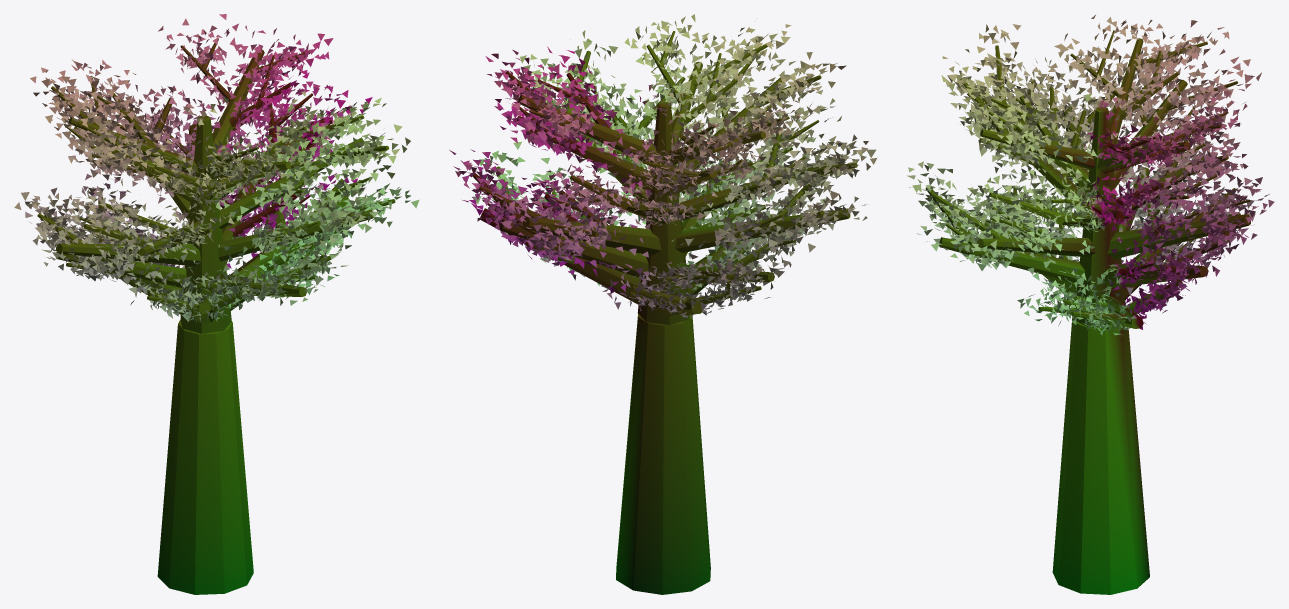
Rendered from ecological_savanna_ancient_02.glb.
3 renders of one model, left to right at view 1: azimuth 30°, elevation 25°; view 2: azimuth 150°, elevation 25°; view 3: azimuth 270°, elevation 25°, orthographic. The views are drawn at different scales.
Parts seen in each view (by area): view 1: ecological_savanna_ancient_02; view 2: ecological_savanna_ancient_02; view 3: ecological_savanna_ancient_02.
Part boxes in pixels (x1,y1,x2,y2): ecological_savanna_ancient_02: (14, 14, 419, 594); ecological_savanna_ancient_02: (449, 14, 876, 594); ecological_savanna_ancient_02: (907, 15, 1274, 594).
Bounding box in the file's own units: 56.48 × 70.28 × 46.88.
